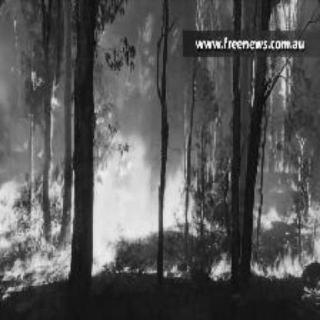Fire: (265, 4, 301, 106), (200, 252, 231, 274)
